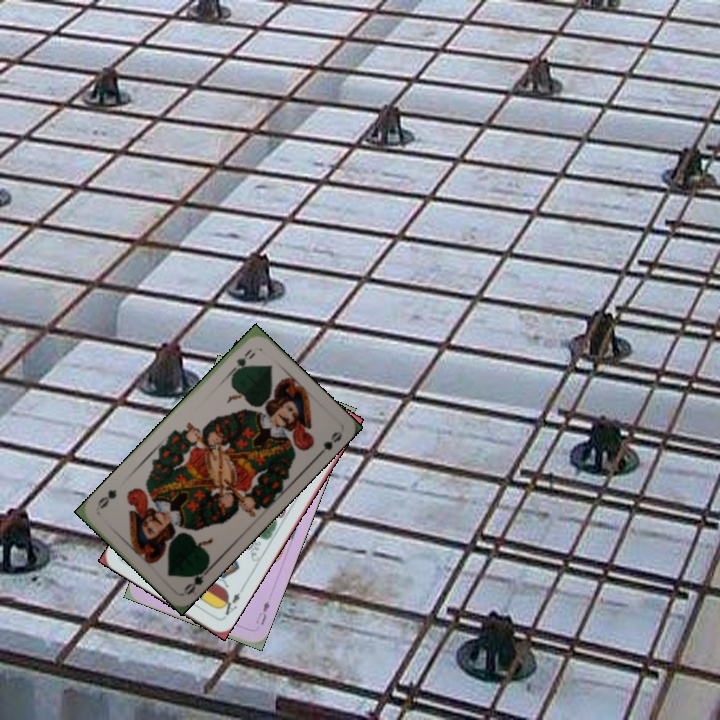EA: (216, 588, 243, 621)
EU: (252, 596, 272, 628)
GO: (179, 562, 214, 597), (225, 345, 258, 379)
